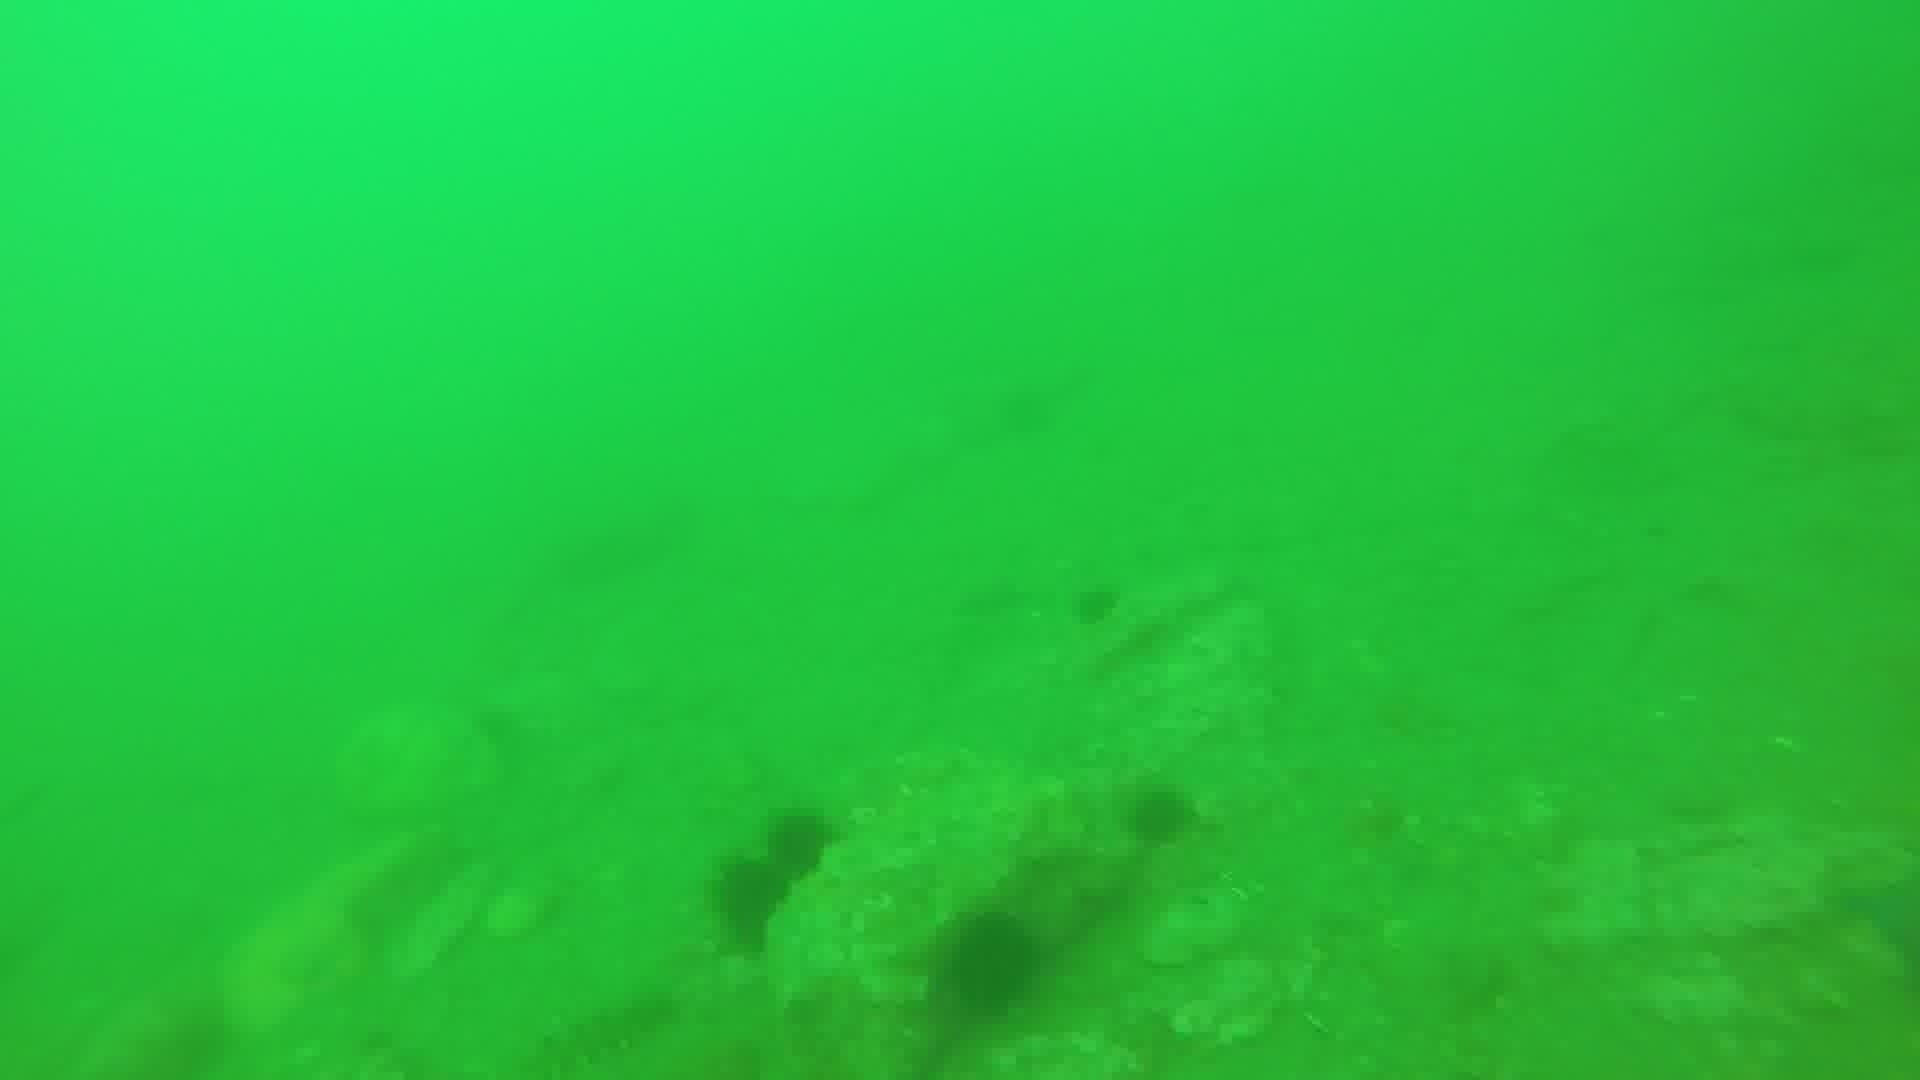echinus: (934, 906, 1047, 1021), (705, 851, 799, 949), (760, 803, 840, 880), (1121, 781, 1197, 851), (1067, 578, 1125, 629)
holothurian: (516, 982, 682, 1077)
scallop: (328, 699, 497, 827)
